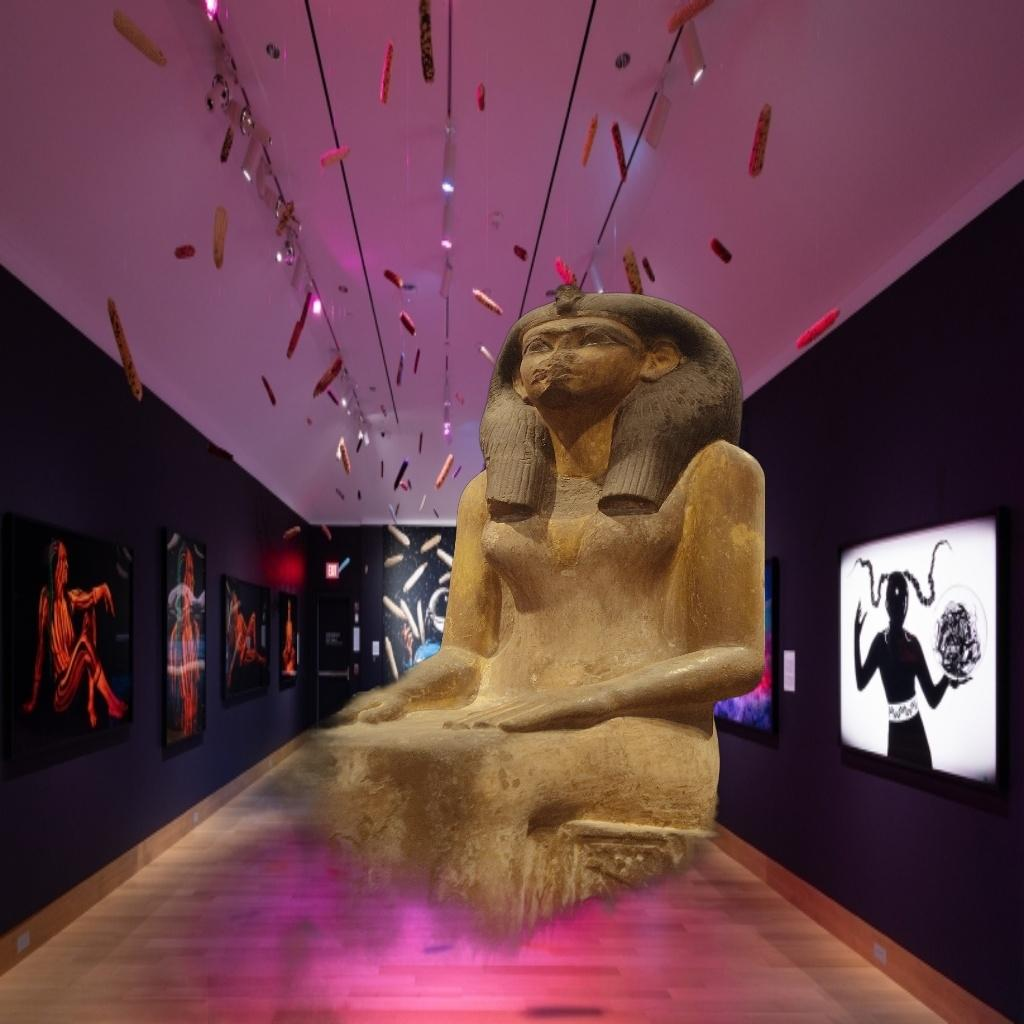Statue of Queen Metnoforet: (208, 274, 765, 1024)
